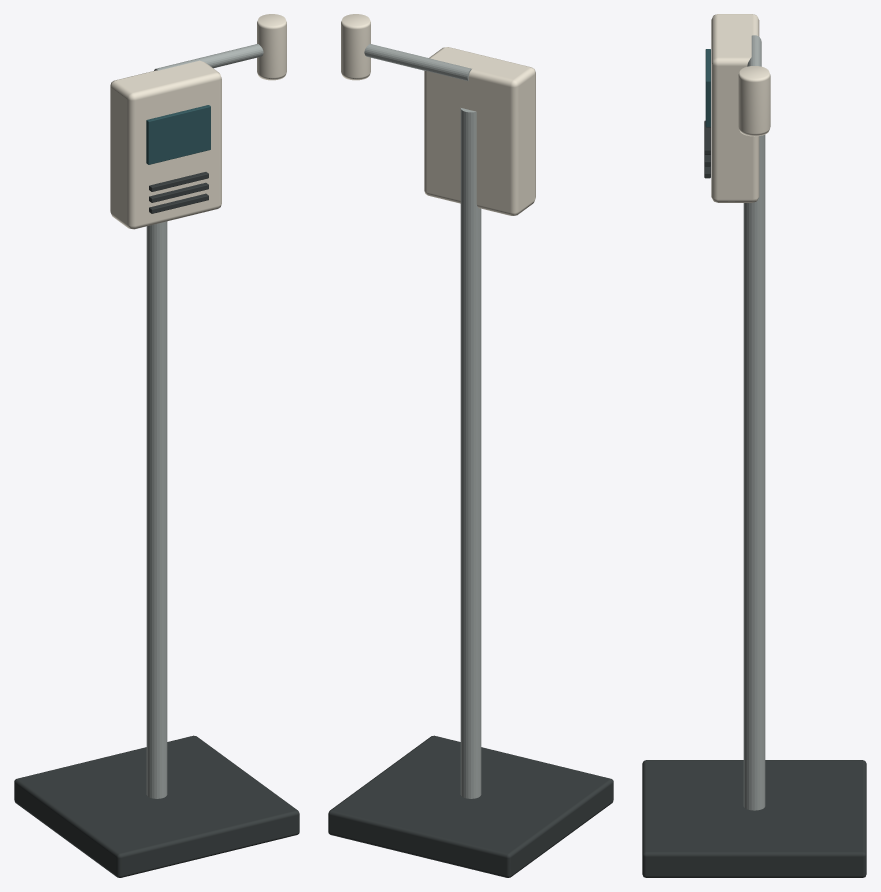
Rendered from museum-conservation-and-art-restoration-museum-conserv-ae7a1e98__31904.glb.
The picture shows the model from 3 angles, left to right: view 1: azimuth 30°, elevation 25°; view 2: azimuth 150°, elevation 25°; view 3: azimuth 270°, elevation 25°; orthographic projection. The views are drawn at different scales.
Visible parts, largest first — view 1: museum-conservation-and-art-restoration-sensor-logger-mast; view 2: museum-conservation-and-art-restoration-sensor-logger-mast; view 3: museum-conservation-and-art-restoration-sensor-logger-mast.
Part boxes in pixels (left/top/right/bottom): museum-conservation-and-art-restoration-sensor-logger-mast: left=14, top=14, right=299, bottom=877; museum-conservation-and-art-restoration-sensor-logger-mast: left=328, top=14, right=613, bottom=877; museum-conservation-and-art-restoration-sensor-logger-mast: left=642, top=14, right=866, bottom=877.
Size of the model in its own units: 0.42 by 1.41 by 0.35.
